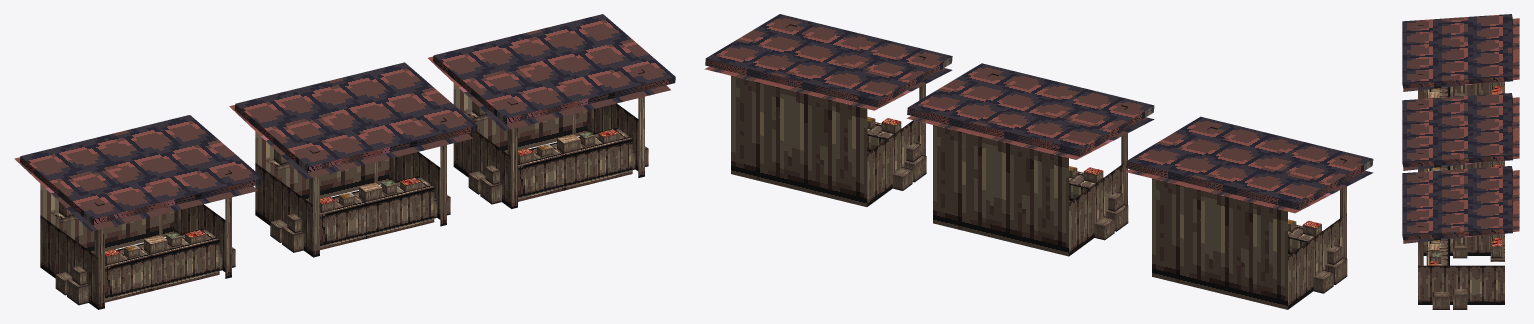
Rendered from market_stall_threeinarow.glb.
3 renders of one model, left to right at view 1: azimuth 30°, elevation 25°; view 2: azimuth 150°, elevation 25°; view 3: azimuth 270°, elevation 25°, orthographic. The views are drawn at different scales.
Visible parts, largest first — view 1: Stall_Roof.001, Stall_Roof.002, Stall_Roof, Counter_Front.001, Counter_Front, Counter_Front.002, Stall_BackWall, Stall_BackWall.002, Stall_BackWall.001, Stall_LeftLower.002, Stall_LeftLower, Stall_LeftLower.001 (+12 smaller); view 2: Stall_Roof.001, Stall_Roof, Stall_Roof.002, Stall_BackWall.001, Stall_BackWall, Stall_BackWall.002, Stall_LeftLower.001, Stall_LeftLower.002, Stall_LeftLower; view 3: Stall_Roof, Stall_Roof.001, Stall_Roof.002, Stall_RightLower.001, Stall_LeftLower.001, Stall_LeftLower.002, Counter_Top.001, Post_RightSide.001, Crate3_Right.001, Crate4_Right.001, Stall_LeftLower, Shelf_Top.001 (+3 smaller).
Part boxes in pixels (x1,y1,x2,y2): Stall_Roof.001: (428,14,675,130); Stall_Roof.002: (14,115,262,231); Stall_Roof: (229,62,477,179); Counter_Front.001: (518,139,632,201); Counter_Front: (320,187,434,249); Counter_Front.002: (105,240,219,302); Stall_BackWall: (255,131,388,201); Stall_BackWall.002: (40,184,173,253); Stall_BackWall.001: (453,83,587,153); Stall_LeftLower.002: (40,215,98,309); Stall_LeftLower: (255,163,313,257); Stall_LeftLower.001: (453,131,511,208); Stall_Roof.001: (704,14,952,110); Stall_Roof: (906,63,1154,159); Stall_Roof.002: (1125,116,1373,213); Stall_BackWall.001: (731,76,867,206); Stall_BackWall: (933,125,1068,256); Stall_BackWall.002: (1152,178,1287,309); Stall_LeftLower.001: (867,120,925,206); Stall_LeftLower.002: (1288,213,1346,309); Stall_LeftLower: (1069,163,1127,256); Stall_Roof: (1402,93,1519,170); Stall_Roof.001: (1402,166,1519,243); Stall_Roof.002: (1402,14,1519,91); Stall_RightLower.001: (1418,265,1504,304); Stall_LeftLower.001: (1423,234,1490,255); Stall_LeftLower.002: (1423,82,1490,98); Counter_Top.001: (1426,239,1449,265); Post_RightSide.001: (1418,226,1423,304); Crate3_Right.001: (1432,296,1449,309); Crate4_Right.001: (1453,294,1467,309); Stall_LeftLower: (1423,161,1490,171); Shelf_Top.001: (1490,233,1504,261).
Bounding box in the file's own units: 17.48 × 3.2 × 4.04.
Materials: 6 (6 with a texture image).
